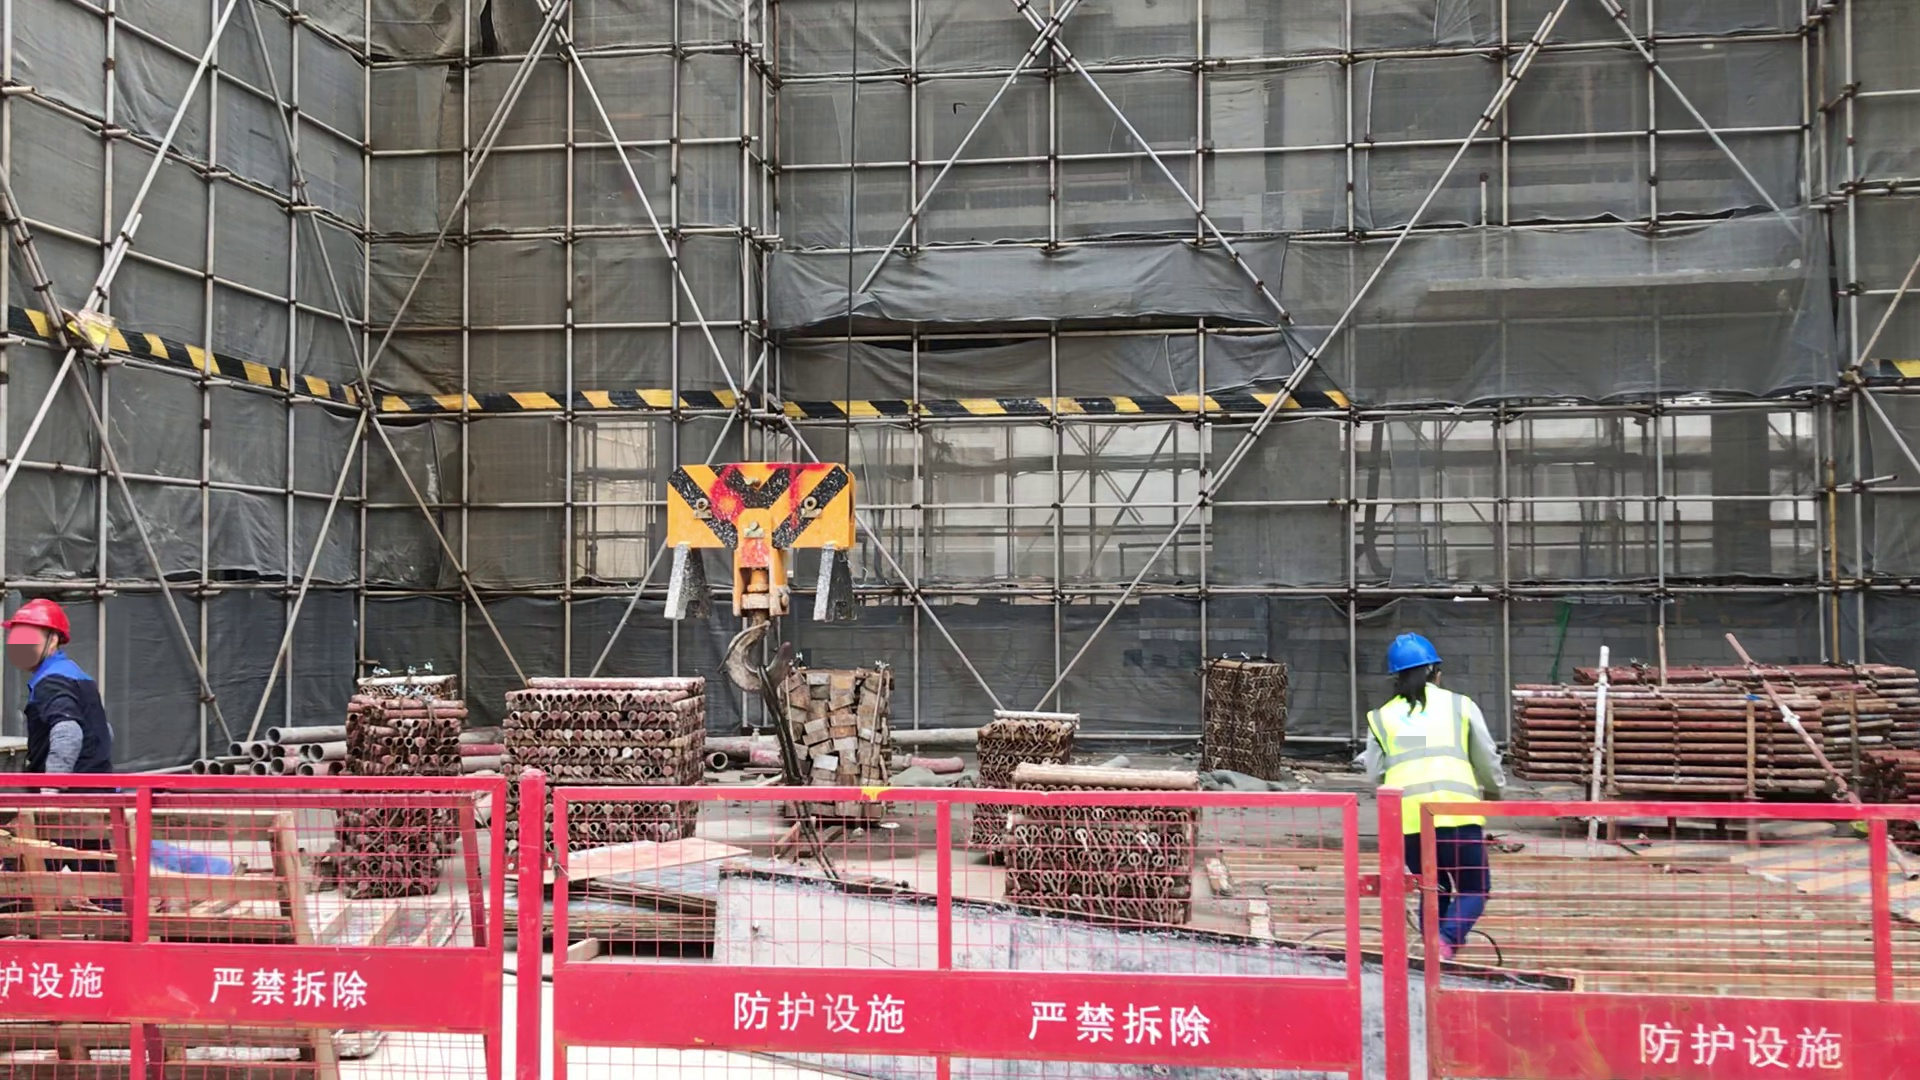fence: (2, 772, 1920, 1076)
helmet: (1381, 632, 1443, 676), (11, 598, 73, 638)
hook: (652, 464, 865, 694)
person: (1344, 631, 1514, 963), (7, 593, 121, 776)
scaffold: (329, 661, 720, 890), (1521, 656, 1920, 795), (972, 705, 1200, 929), (1202, 653, 1294, 778)
vest: (1366, 683, 1489, 835)
